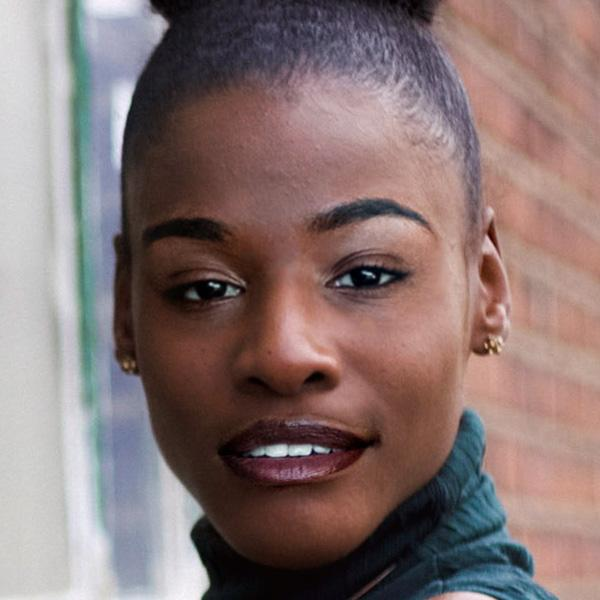Eyes: (313, 246, 420, 301), (161, 258, 252, 322)
